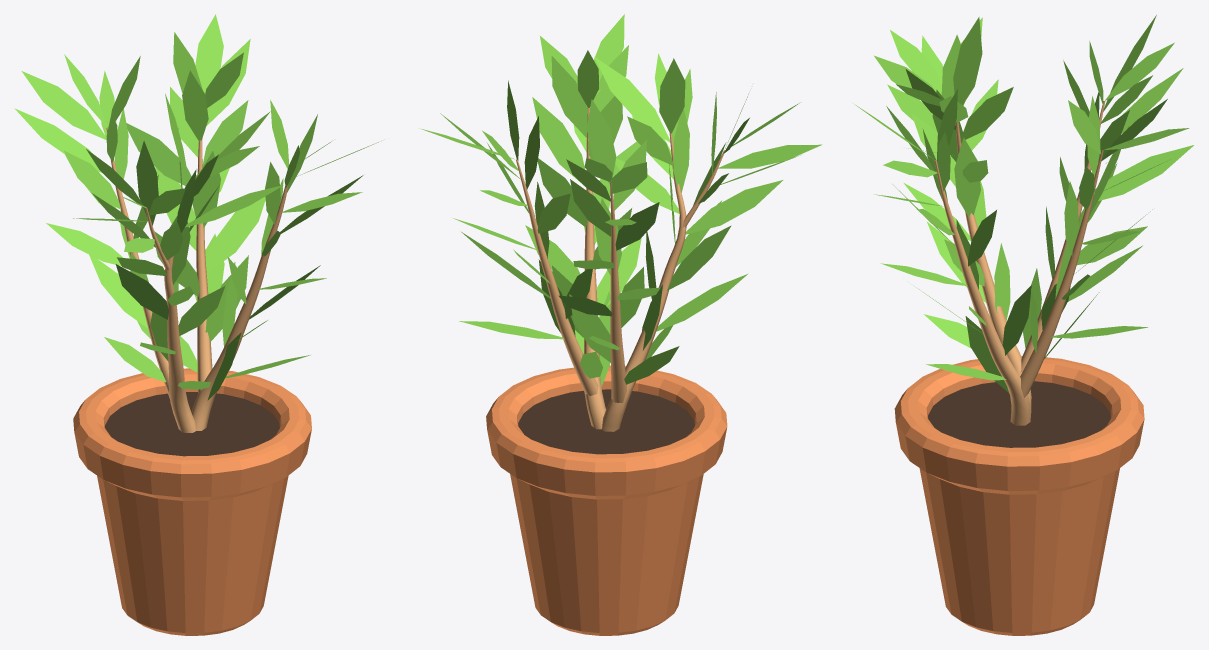
The model's file is plantpot.glb.
The picture shows the model from 3 angles, left to right: view 1: azimuth 30°, elevation 25°; view 2: azimuth 150°, elevation 25°; view 3: azimuth 270°, elevation 25°; orthographic projection. The views are drawn at different scales.
Parts seen in each view (by area): view 1: Plant; view 2: Plant; view 3: Plant.
Part boxes in pixels (bbox=[...]): Plant: bbox=[14, 14, 378, 635]; Plant: bbox=[420, 14, 822, 635]; Plant: bbox=[854, 15, 1193, 635].
Bounding box in the file's own units: 1.17 × 2.03 × 1.11.
